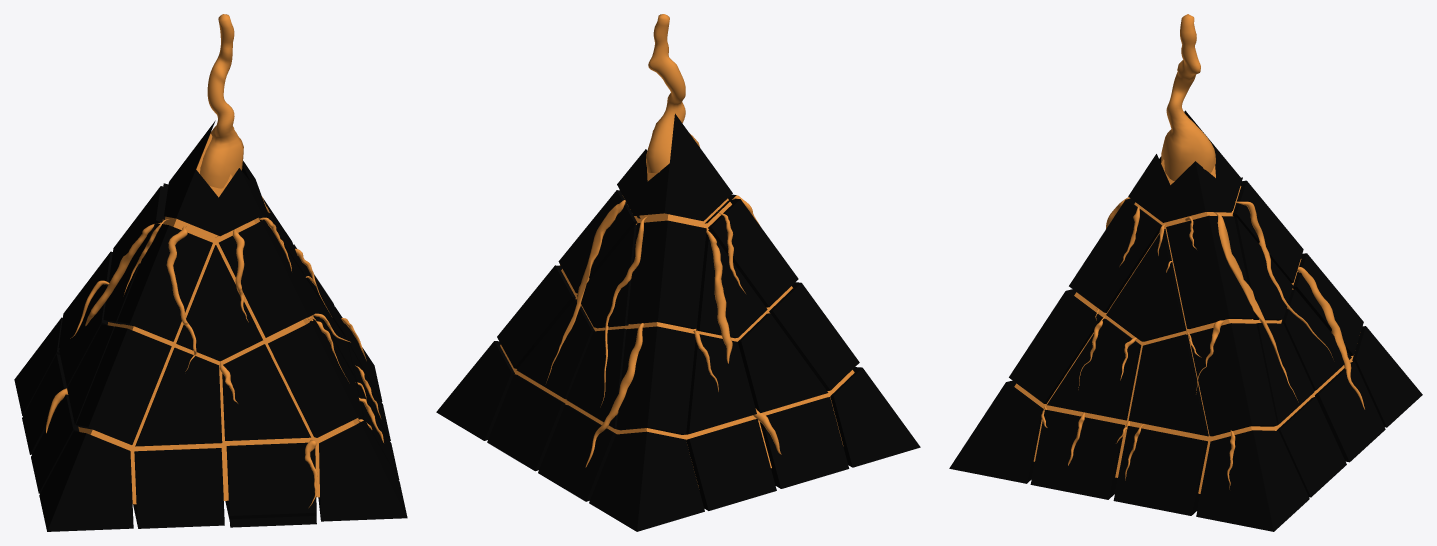
The model's file is goldmolding_pyramid.glb.
3 views of the same model, side by side, from view 1: azimuth 30°, elevation 25°; view 2: azimuth 150°, elevation 25°; view 3: azimuth 270°, elevation 25° (orthographic). The views are drawn at different scales.
Visible parts, largest first — view 1: RockPyramid_0, GoldPyramid_1; view 2: RockPyramid_0, GoldPyramid_1; view 3: RockPyramid_0, GoldPyramid_1.
Boxes of the visible parts, x1,y1,x2,y2 form: RockPyramid_0: (14,120,407,531); GoldPyramid_1: (46,14,383,507); RockPyramid_0: (436,113,920,531); GoldPyramid_1: (500,14,854,485); RockPyramid_0: (949,110,1422,531); GoldPyramid_1: (1014,14,1364,493).
Size of the model in its own units: 2.61 by 2.59 by 2.61.
